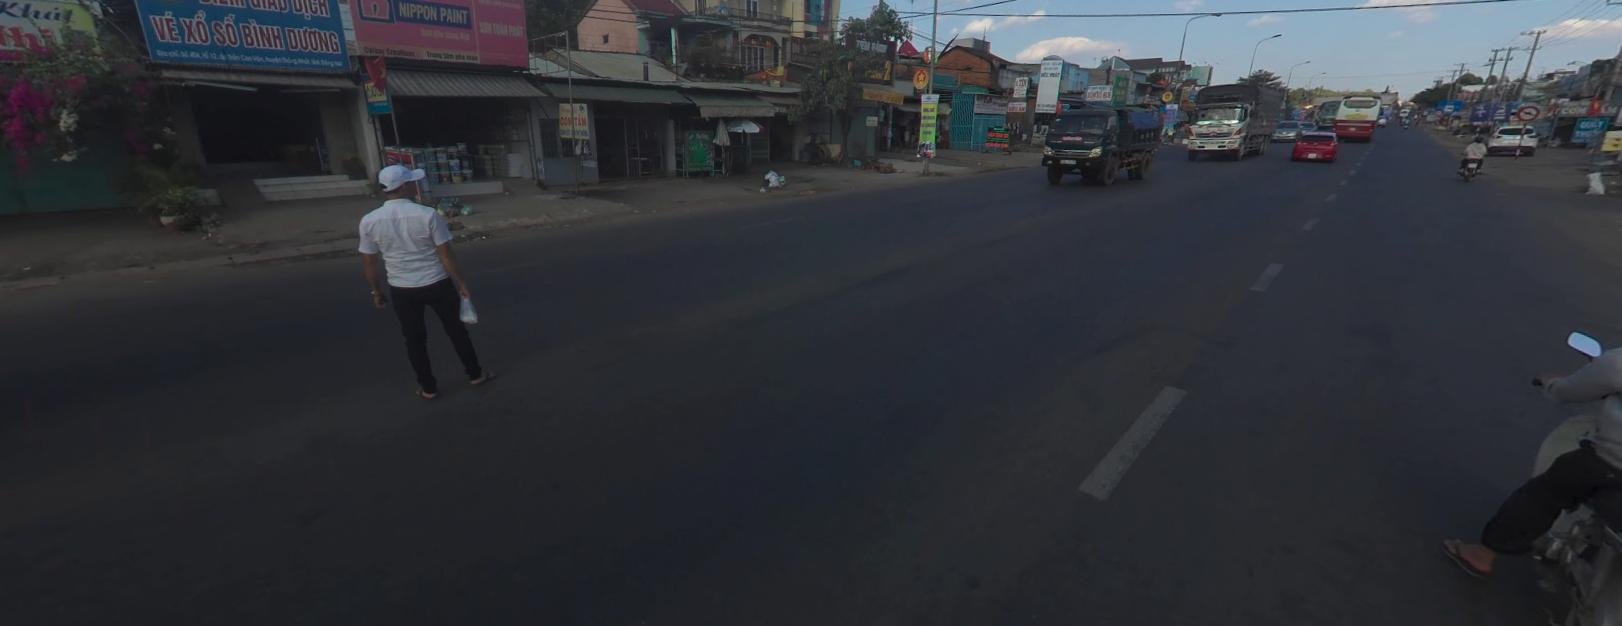Cam con lai: (1516, 103, 1538, 119)
